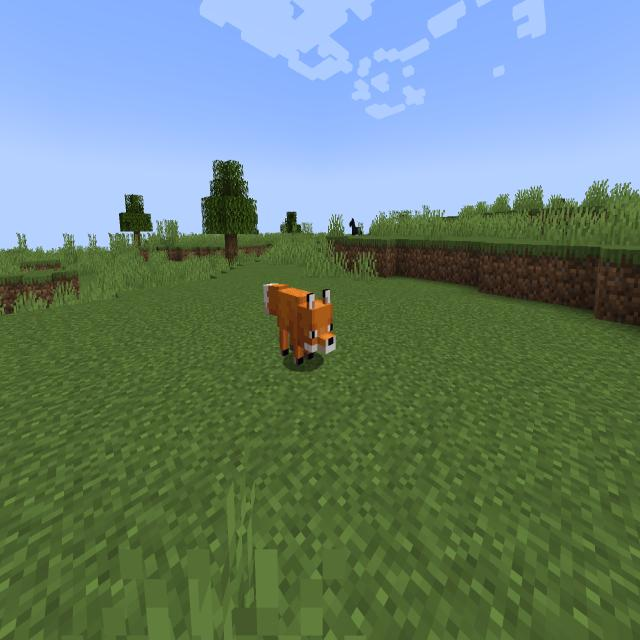Fox: (258, 264, 342, 381)
